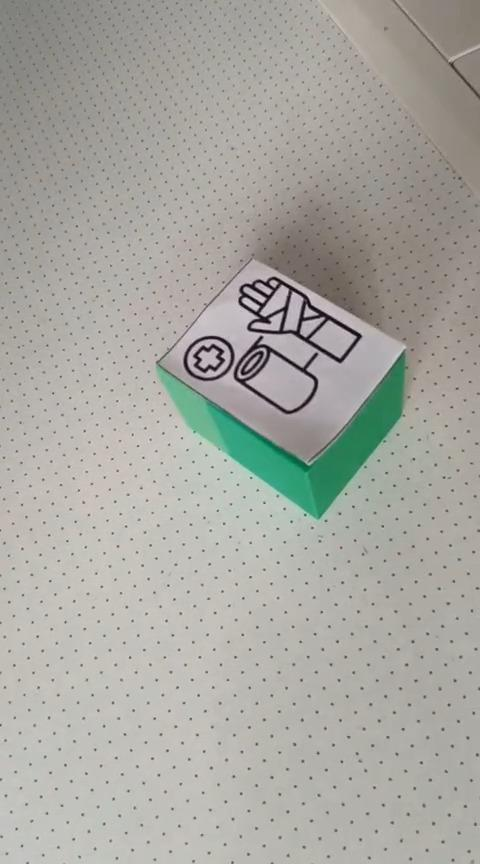Bandages: (154, 255, 407, 519)
